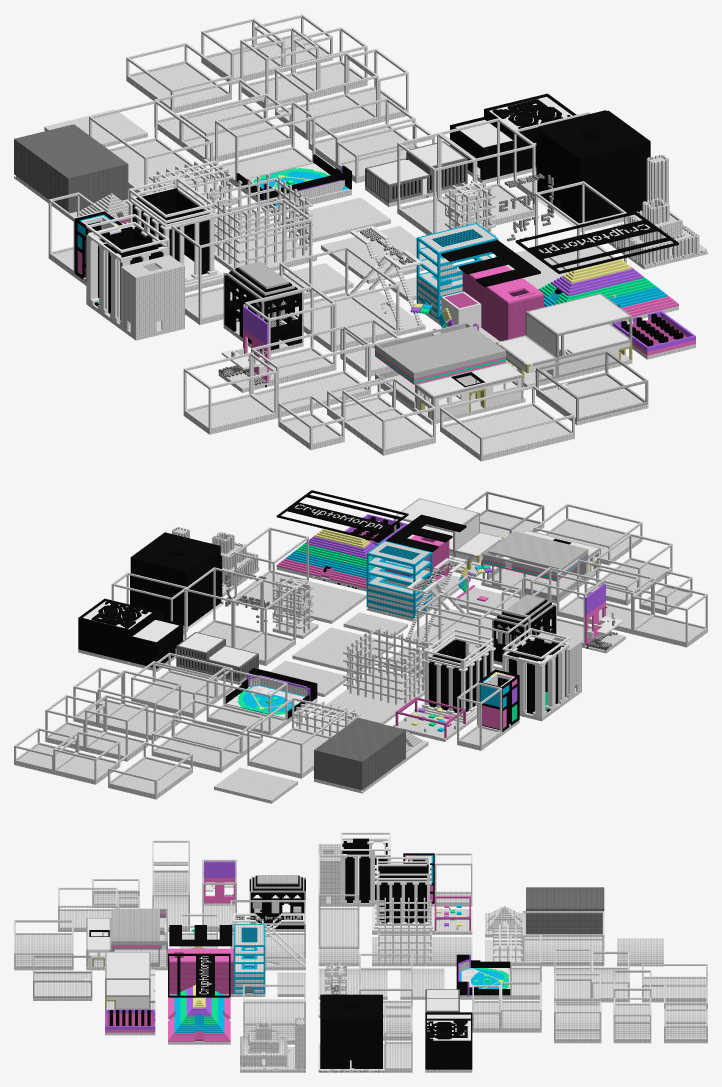
Rendered from Shenzhen-v2.glb.
The picture shows the model from 3 angles, top to bottom: view 1: azimuth 30°, elevation 25°; view 2: azimuth 150°, elevation 25°; view 3: azimuth 270°, elevation 25°; orthographic projection. The views are drawn at different scales.
Visible parts, largest first — view 1: solid-voxels_38.022; view 2: solid-voxels_38.022; view 3: solid-voxels_38.022.
Boxes of the visible parts, x1,y1,x2,y2 form: solid-voxels_38.022: [14, 14, 707, 461]; solid-voxels_38.022: [14, 490, 707, 803]; solid-voxels_38.022: [14, 832, 707, 1072].
Bounding box in the file's own units: 149 × 20.01 × 221.
Materials: 1 (1 with a texture image).
